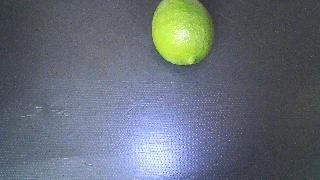EXPORTACION: (152, 0, 214, 65)
